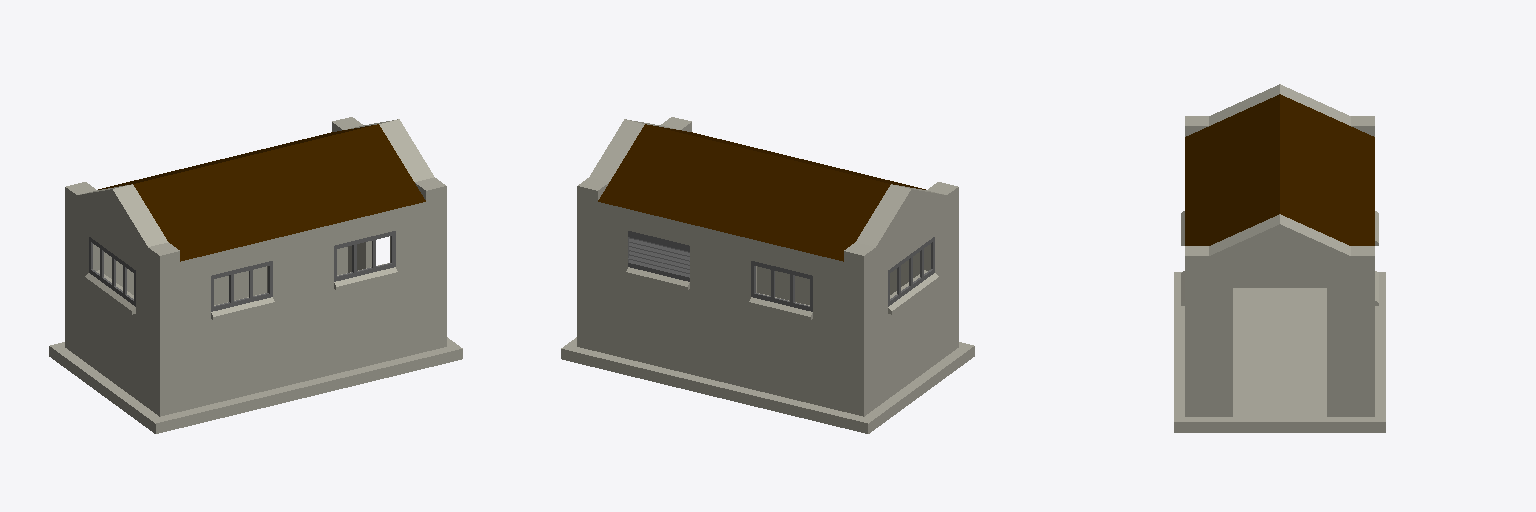
The model's file is storeroom.obj.
The picture shows the model from 3 angles: view 1: azimuth 30°, elevation 25°; view 2: azimuth 150°, elevation 25°; view 3: azimuth 270°, elevation 25°; orthographic projection.
Parts seen in each view (by area): view 1: front_3_3_8_8_8, slope_4_4_256, left_1_1_6_6_6, front_50_50_55_55_55, front_5_5_5, front_9_9_14_14_14, front_5_5_10_10_10, front_11_11_16_16_16, left_47_47_52_52_52, front_5_5_89_89_94_94_94, front_75_75_80_80_80, top_118_118_118 (+7 smaller); view 2: back_2_2_7_7_7, slope_3_3_255, left_1_1_6_6_6, back_49_49_54_54_54, back_4_4_4, back_8_8_13_13_13, front_7_7_12_12_12, back_10_10_15_15_15, left_47_47_52_52_52, front_5_5_89_89_94_94_94, front_77_77_82_82_82, top_117_117_117 (+7 smaller); view 3: top_121_121_121, slope_3_3_255, slope_4_4_256, front_85_85_90_90_90, front_87_87_92_92_92, back_4_4_88_88_93_93_93, right_48_48_53_53_53, right_3_3_3, top_117_117_117, top_118_118_118, top_120_120_120, bottom_1_1_90_90_95_95_95 (+3 smaller).
Boxes of the visible parts, <box> form: front_3_3_8_8_8: <box>160,261,446,416</box>; slope_4_4_256: <box>133,124,425,261</box>; left_1_1_6_6_6: <box>65,262,159,416</box>; front_50_50_55_55_55: <box>160,197,446,287</box>; front_5_5_5: <box>156,349,462,433</box>; front_9_9_14_14_14: <box>273,246,333,302</box>; front_5_5_10_10_10: <box>160,276,210,330</box>; front_11_11_16_16_16: <box>396,218,446,272</box>; left_47_47_52_52_52: <box>65,198,159,287</box>; front_5_5_89_89_94_94_94: <box>65,189,158,265</box>; front_75_75_80_80_80: <box>99,247,347,304</box>; top_118_118_118: <box>161,347,451,420</box>; back_2_2_7_7_7: <box>577,261,863,416</box>; slope_3_3_255: <box>598,124,890,261</box>; left_1_1_6_6_6: <box>864,262,958,416</box>; back_49_49_54_54_54: <box>577,197,863,287</box>; back_4_4_4: <box>561,349,867,433</box>; back_8_8_13_13_13: <box>690,246,750,302</box>; front_7_7_12_12_12: <box>813,276,863,330</box>; back_10_10_15_15_15: <box>577,218,627,272</box>; left_47_47_52_52_52: <box>864,198,958,287</box>; front_5_5_89_89_94_94_94: <box>865,189,958,265</box>; front_77_77_82_82_82: <box>757,252,924,304</box>; top_117_117_117: <box>572,347,862,420</box>; top_121_121_121: <box>1233,288,1326,411</box>; slope_3_3_255: <box>1280,94,1374,245</box>; slope_4_4_256: <box>1185,94,1279,245</box>; front_85_85_90_90_90: <box>1185,288,1232,416</box>; front_87_87_92_92_92: <box>1327,288,1374,416</box>; back_4_4_88_88_93_93_93: <box>1187,224,1372,266</box>; right_48_48_53_53_53: <box>1185,267,1374,287</box>; right_3_3_3: <box>1174,422,1385,432</box>; top_117_117_117: <box>1375,277,1385,416</box>; top_118_118_118: <box>1174,277,1184,416</box>; top_120_120_120: <box>1174,417,1385,421</box>; bottom_1_1_90_90_95_95_95: <box>1280,84,1350,125</box>.
Size of the model in its own units: 600 by 380 by 360.